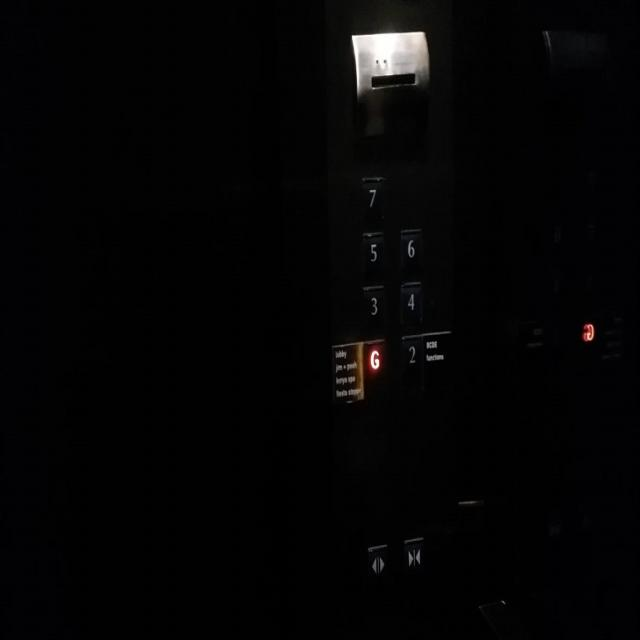2: (398, 332, 424, 378)
3: (361, 282, 387, 328)
4: (398, 280, 423, 328)
5: (360, 230, 387, 277)
6: (397, 226, 424, 272)
7: (360, 173, 387, 224)
G: (362, 336, 388, 383)
close: (401, 535, 425, 580)
open: (366, 541, 389, 583)
